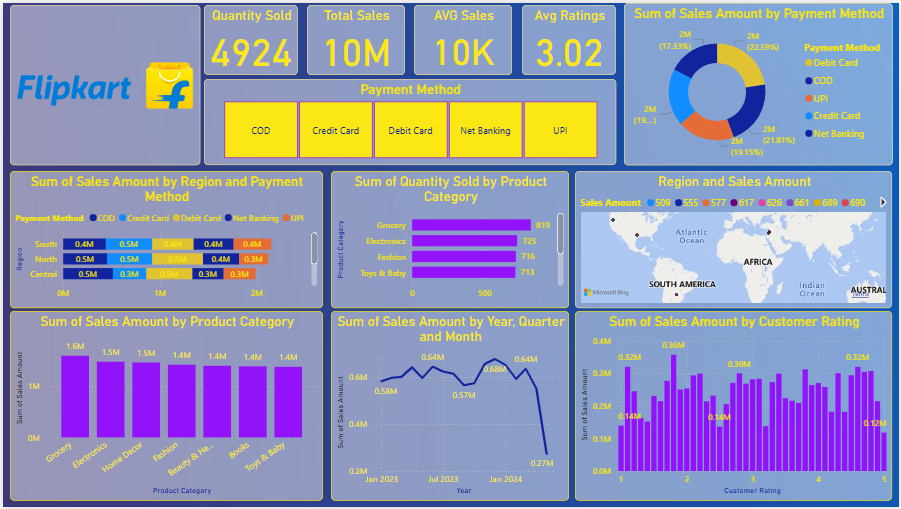

What the dashboard file says about the page in this screenshot:
{"tool":"powerbi","page":{"name":"Page 1","canvas":[1280,720],"ordinal":0},"visuals":[{"type":"card","title":"Quantity Sold","fields":{"Values":["Sum(Sheet1.Quantity Sold)"]},"box":[287.1,2.9,134.3,100],"z":0},{"type":"card","title":"AVG Sales","fields":{"Values":["Avg(Sheet1.Sales Amount)"]},"box":[587.1,2.9,140,100],"z":1000},{"type":"card","title":"Total Sales","fields":{"Values":["Sum(Sheet1.Sales Amount)"]},"box":[434.3,2.9,140,100],"z":2000},{"type":"card","title":"Avg Ratings","fields":{"Values":["Avg(Sheet1.Customer Rating)"]},"box":[741.4,2.9,134.3,100],"z":3000},{"type":"map","fields":{"Category":["Sheet1.Region"],"Series":["Sheet1.Sales Amount"]},"box":[817.3,240,453.3,196],"z":4000},{"type":"columnChart","fields":{"Category":["Sheet1.Product Category"],"Y":["Sum(Sheet1.Sales Amount)"]},"box":[9.3,440,446.7,270.7],"z":5000},{"type":"lineChart","fields":{"Category":["Sheet1.Order Date.Variation.Date Hierarchy.Year","Sheet1.Order Date.Variation.Date Hierarchy.Quarter","Sheet1.Order Date.Variation.Date Hierarchy.Month","Sheet1.Order Date.Variation.Date Hierarchy.Day"],"Y":["Sum(Sheet1.Sales Amount)"]},"box":[468,440,340,270.7],"z":6000},{"type":"donutChart","fields":{"Category":["Sheet1.Payment Method"],"Y":["Sum(Sheet1.Sales Amount)"]},"box":[886.7,0,384,232],"z":7000},{"type":"clusteredBarChart","fields":{"Category":["Sheet1.Product Category"],"Y":["Sum(Sheet1.Quantity Sold)"]},"box":[468.6,240,340,195.7],"z":8000},{"type":"clusteredColumnChart","fields":{"Category":["Sheet1.Customer Rating"],"Y":["Sum(Sheet1.Sales Amount)"]},"box":[817.3,440,453.3,270.7],"z":9000},{"type":"barChart","fields":{"Y":["Sum(Sheet1.Sales Amount)"],"Category":["Sheet1.Region"],"Series":["Sheet1.Payment Method"]},"box":[9.3,240,446.7,196],"z":10000},{"type":"slicer","title":"Payment Method","fields":{"Values":["Sheet1.Payment Method"]},"box":[287.1,108.6,588.6,122.9],"z":11000},{"type":"image","box":[9.3,2.7,272,229.3],"z":11001}]}

Visuals, with their boxes in screenshot pixels (x1, y1, x2, y2), scaled from the page's 1280x720 canvas onto the 901x509 screenshot:
"Quantity Sold" card: Rect(202, 2, 297, 73)
"AVG Sales" card: Rect(413, 2, 512, 73)
"Total Sales" card: Rect(306, 2, 404, 73)
"Avg Ratings" card: Rect(522, 2, 616, 73)
map - Sheet1.Region x Sheet1.Sales Amount: Rect(575, 170, 894, 308)
columnChart - Sheet1.Product Category x Sum(Sheet1.Sales Amount): Rect(7, 311, 321, 502)
lineChart - Sheet1.Order Date.Variation.Date Hierarchy.Year x Sheet1.Order Date.Variation.Date Hierarchy.Quarter: Rect(329, 311, 569, 502)
donutChart - Sheet1.Payment Method x Sum(Sheet1.Sales Amount): Rect(624, 0, 894, 164)
clusteredBarChart - Sheet1.Product Category x Sum(Sheet1.Quantity Sold): Rect(330, 170, 569, 308)
clusteredColumnChart - Sheet1.Customer Rating x Sum(Sheet1.Sales Amount): Rect(575, 311, 894, 502)
barChart - Sum(Sheet1.Sales Amount) x Sheet1.Region: Rect(7, 170, 321, 308)
"Payment Method" slicer: Rect(202, 77, 616, 164)
image: Rect(7, 2, 198, 164)
